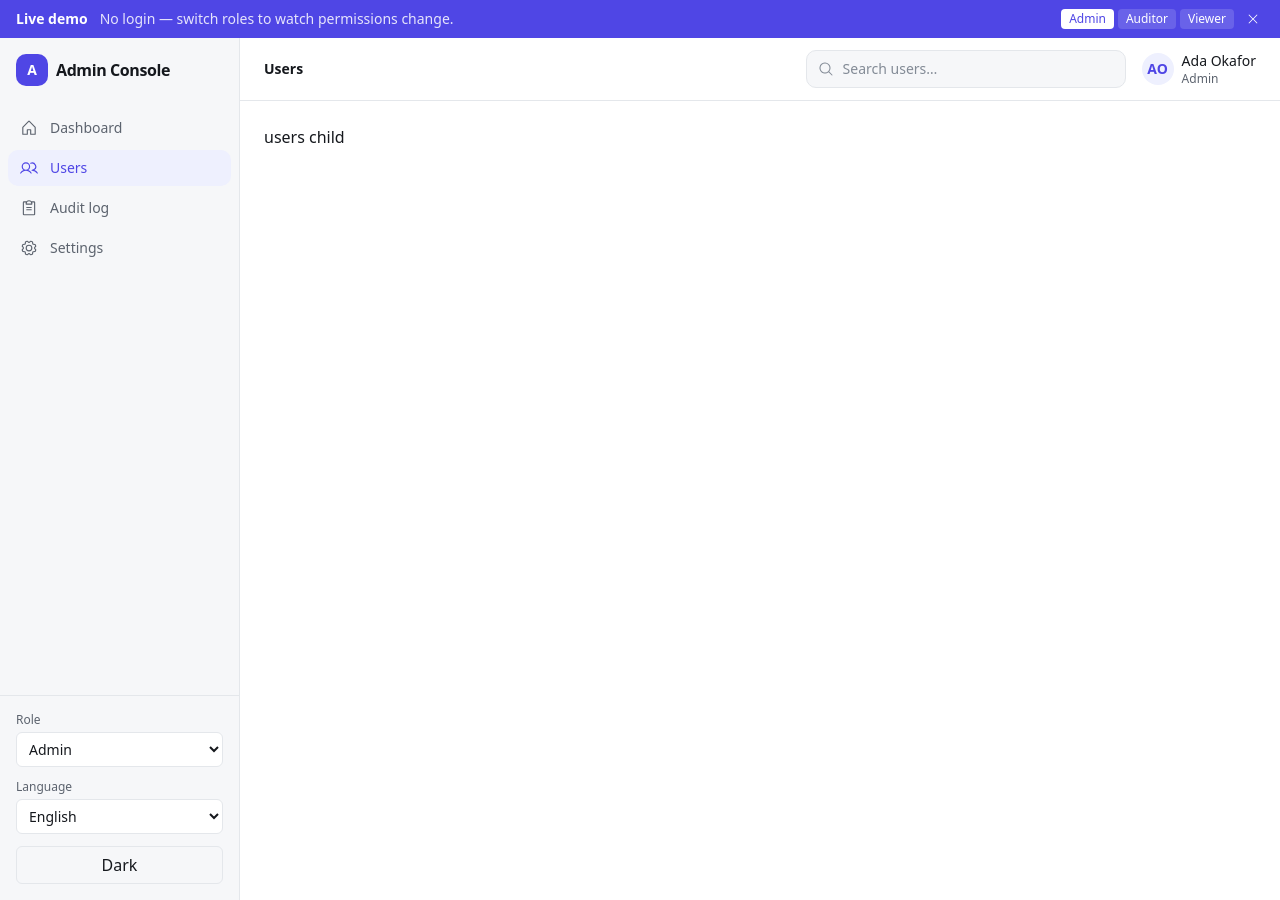
Test: AppLayout › hides nav items the current role cannot access
Check: the link "Audit log" is shown, box [20,198,109,217]
# …a viewer, who lacks audit-log:read, does not.
Select "Viewer" in the dropdown labelled "Role" at {"x": 120, "y": 750}, box [16,732,223,767]
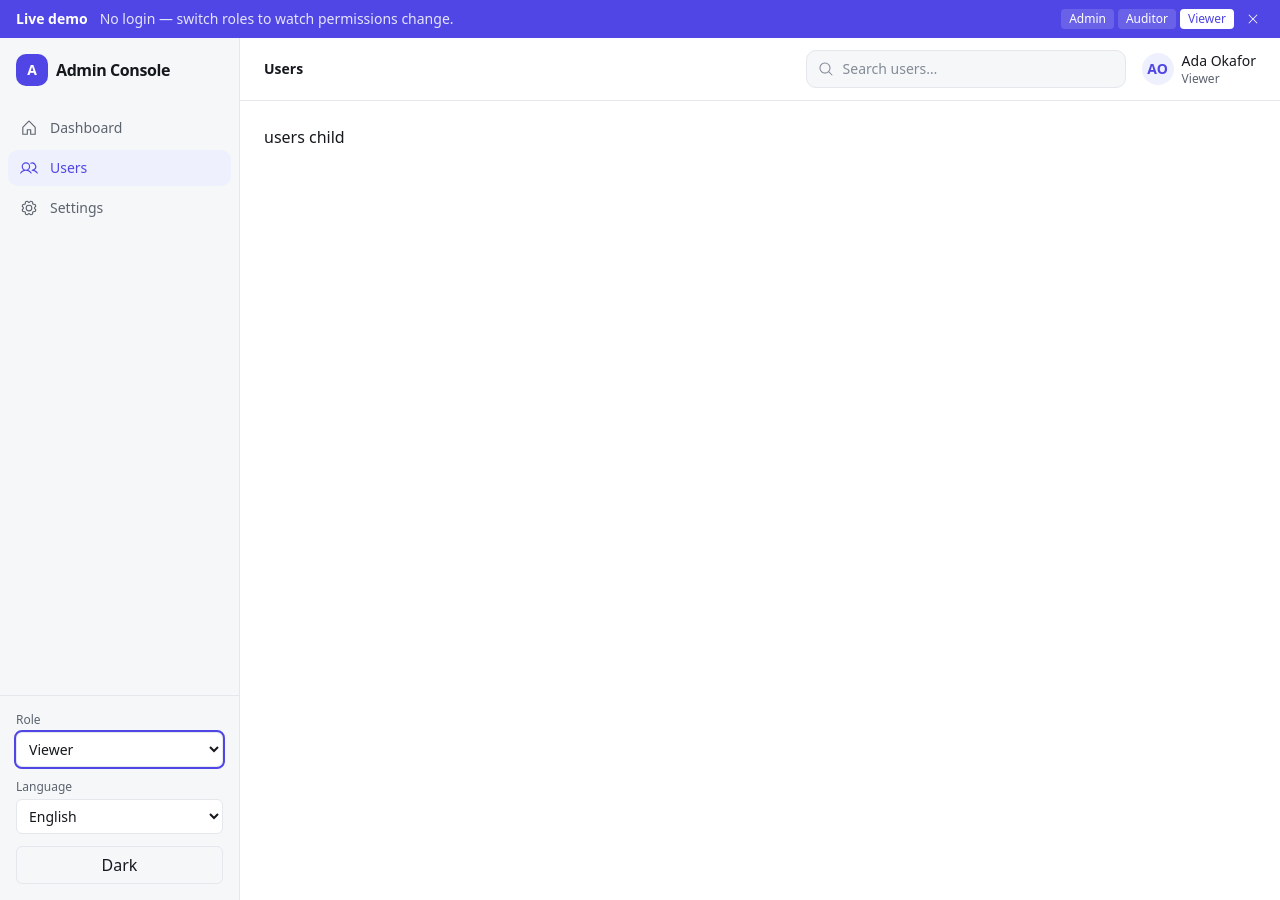
Check: the link "Users" is shown, box [8,150,231,186]
Check: the link "Audit log" is gone
